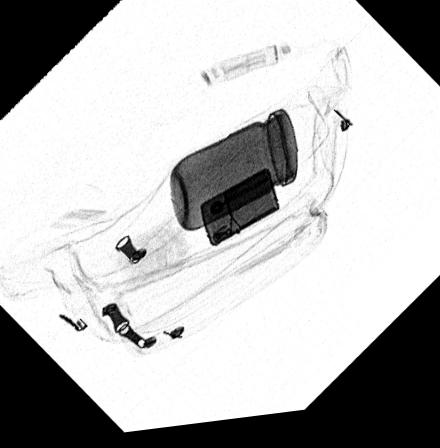Lighter: (197, 174, 280, 253)
